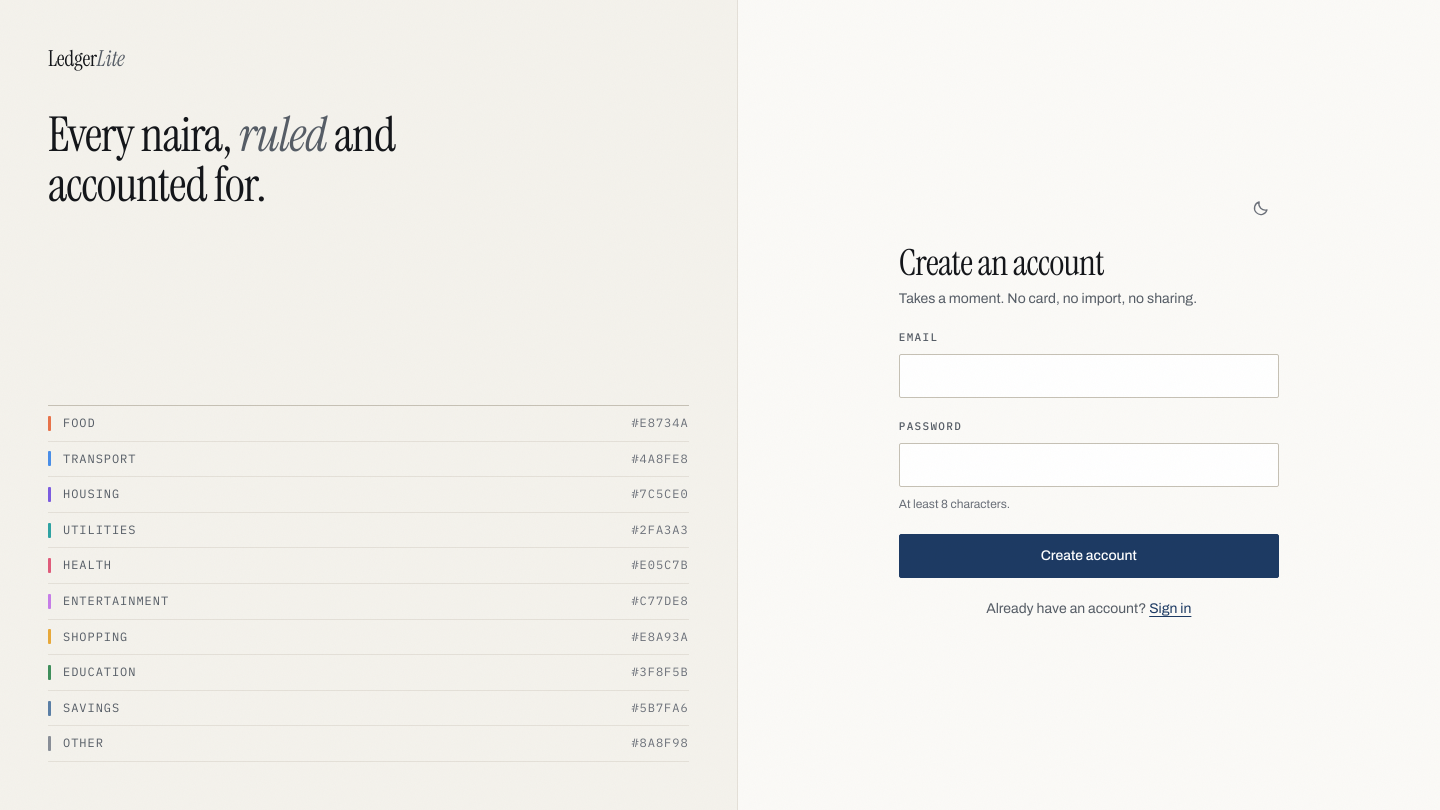
Test case: signing up › refuses a short password before spending a round trip on it
The width and height of the screenshot is (1440, 810).
Expected: the heading "Create an account" is shown, [899,239,1104,286]
Type "short@example.com" into the field labelled "Email" at (1089, 376), box [899,354,1279,398]
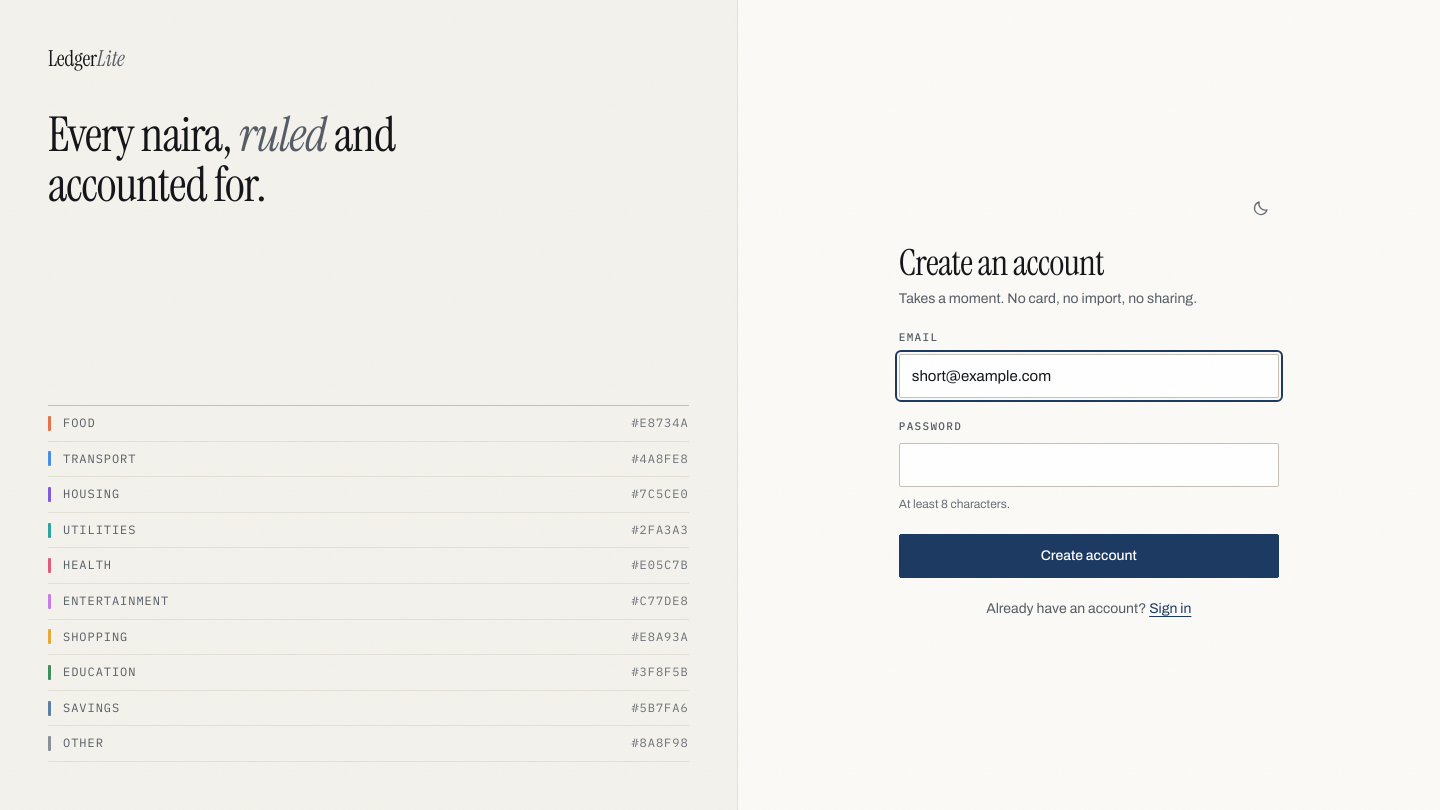
Type "abc" into the password field labelled "Password" at (1089, 465), box [899,443,1279,487]
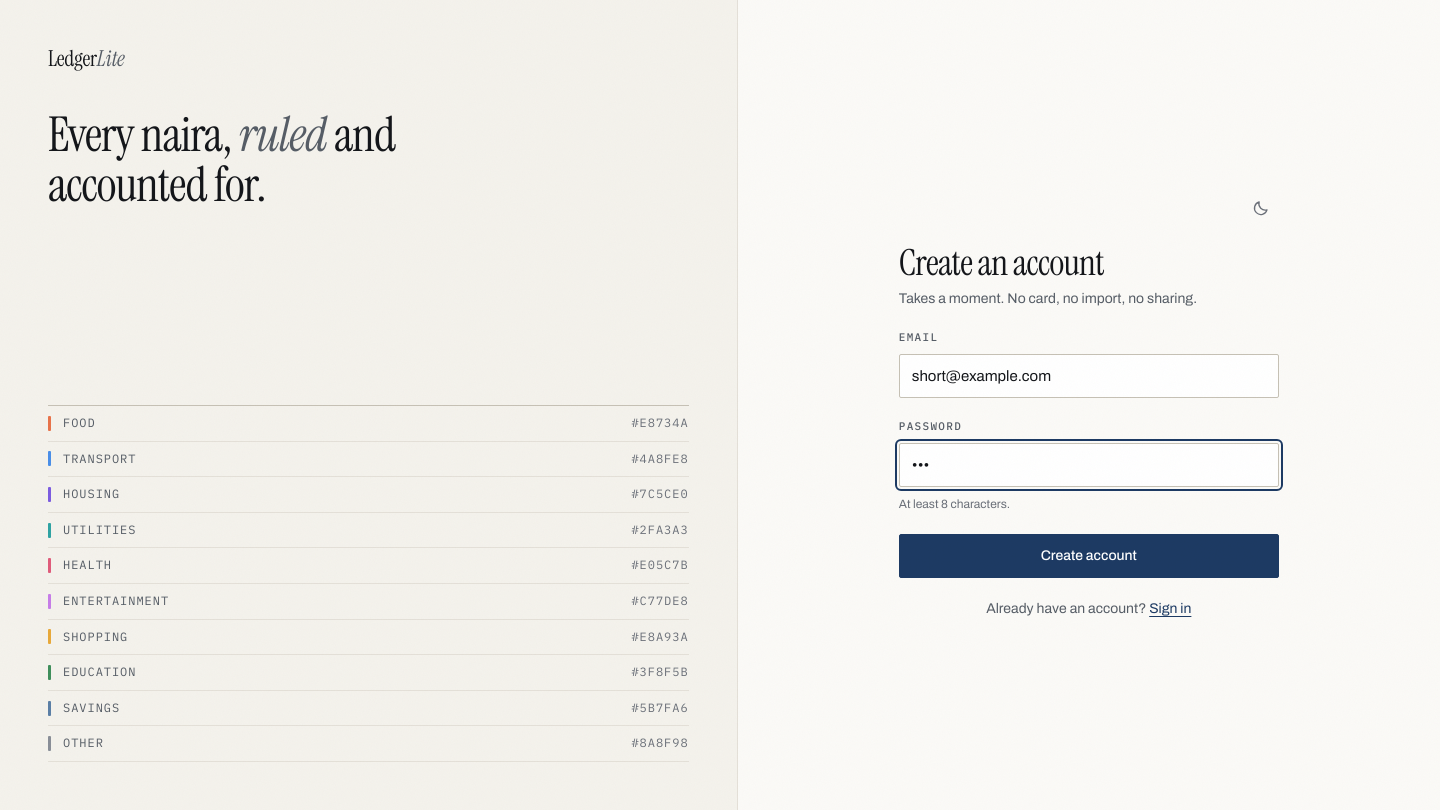
Click the button "Create account" at (1089, 556), box [899,534,1279,578]
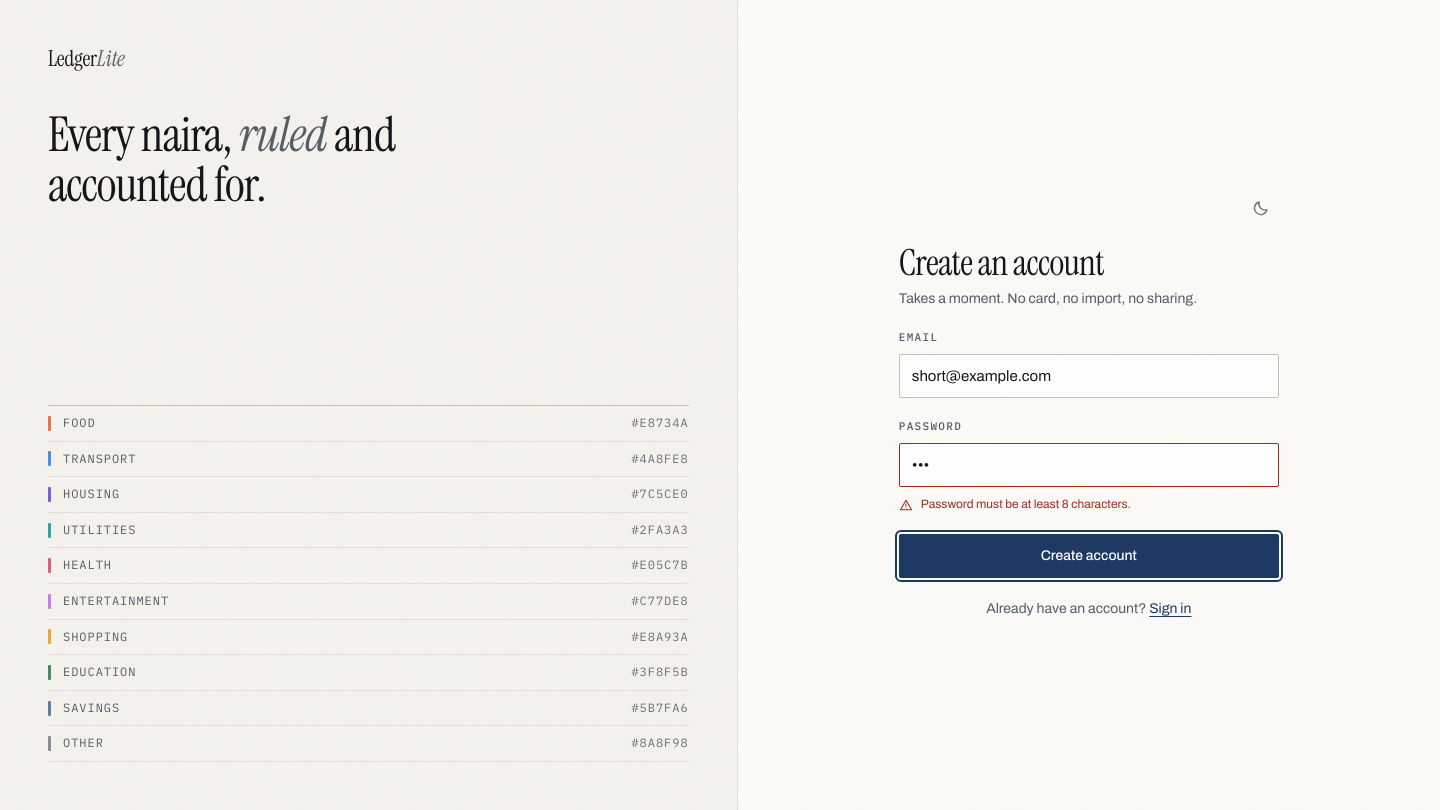
Expected: the heading "Create an account" is shown, [899,239,1104,286]
Expected: the text "Password must be at least 8 characters." is shown, [899,497,1131,512]
